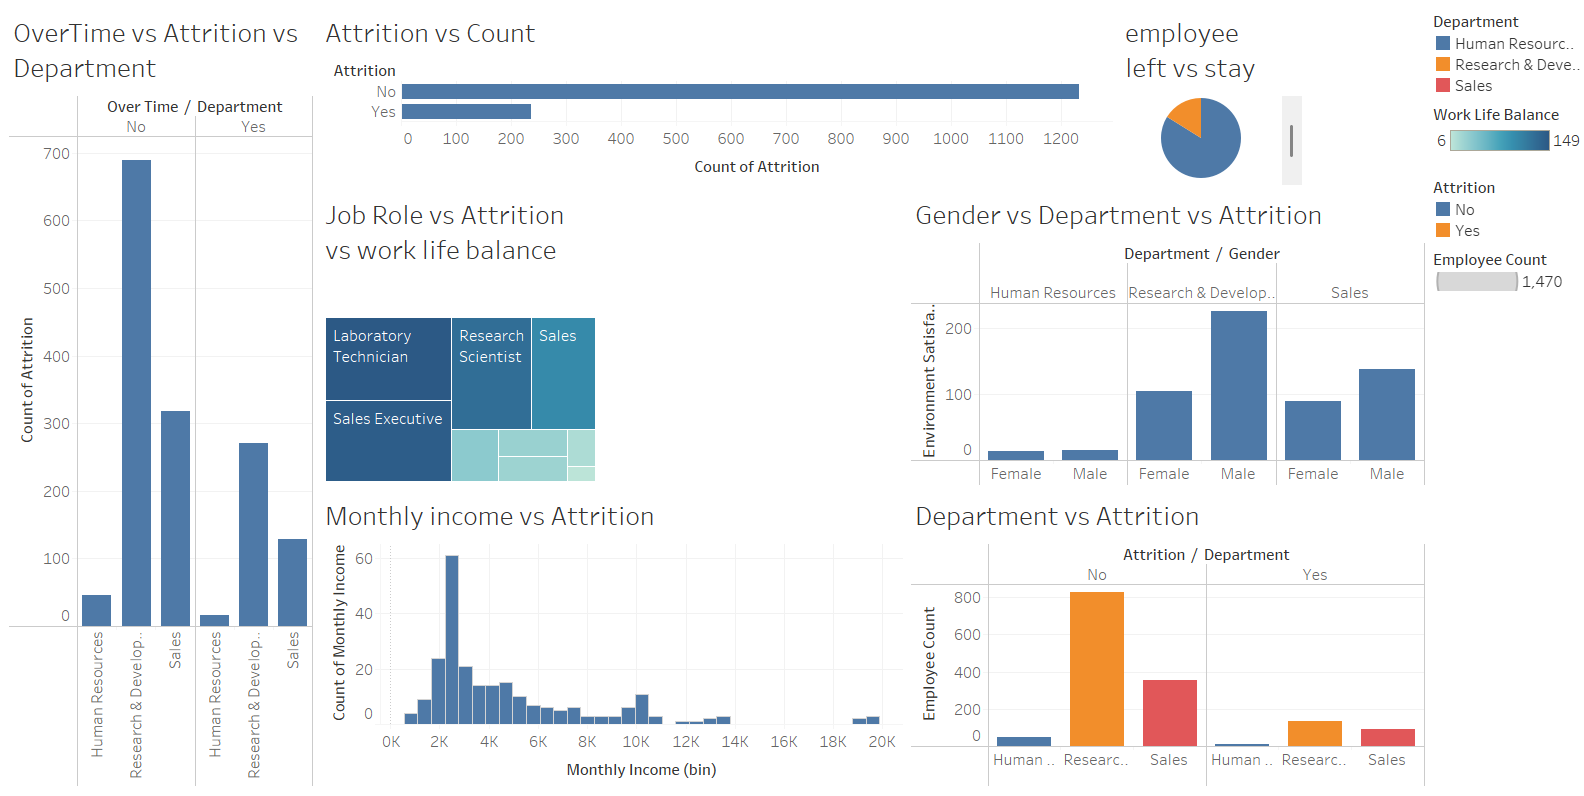

The dashboard page shown, as its layout file describes it:
{"tool":"tableau","page":{"name":"Dashboard 1","canvas":[1000,1000],"units":"permille","ordinal":0},"visuals":[{"type":"worksheet","title":"Sheet 5","mark":"Automatic","rows":["Attrition"],"cols":["OverTime","Department"],"box":[5,10,195,980]},{"type":"worksheet","title":"Sheet 1","mark":"Automatic","rows":["Attrition"],"cols":["Attrition"],"box":[200,10,500,227.6]},{"type":"worksheet","title":"Sheet 2","mark":"Pie","box":[700,10,195,227.6]},{"type":"legend","title":"Sheet 3","param":"[federated.0s0ip4q1ws8l401d2s1za0jbfz5q].[none:Department:nk]","box":[895,10,100,116.2]},{"type":"legend","title":"Sheet 6","param":"[federated.0s0ip4q1ws8l401d2s1za0jbfz5q].[sum:WorkLifeBalance:qk]","box":[895,126.2,100,91.2]},{"type":"legend","title":"Sheet 2","param":"[federated.0s0ip4q1ws8l401d2s1za0jbfz5q].[none:Attrition:nk]","box":[895,217.5,100,90]},{"type":"worksheet","title":"Sheet 6","mark":"Automatic","box":[200,237.6,368.8,376.2]},{"type":"worksheet","title":"Sheet 7","mark":"Automatic","rows":["EnvironmentSatisfaction"],"cols":["Department","Gender"],"box":[568.8,237.6,326.2,376.2]},{"type":"legend","title":"Sheet 2","param":"[federated.0s0ip4q1ws8l401d2s1za0jbfz5q].[sum:EmployeeCount:qk]","box":[895,307.5,100,63.8]},{"type":"worksheet","title":"Sheet 4","mark":"Automatic","rows":["MonthlyIncome"],"cols":["Monthly Income (bin)"],"box":[200,613.8,368.8,376.2]},{"type":"worksheet","title":"Sheet 3","mark":"Automatic","rows":["EmployeeCount"],"cols":["Attrition","Department"],"box":[568.8,613.8,326.2,376.2]}]}

Visuals, with their boxes on the dashboard's canvas, which has no fixed pixel size, in thousandths of its width and height (x1, y1, x2, y2). These are canvas units, not pixel positions in the 1584x796 screenshot, which may show the page scaled, cropped or inside an application window:
"Sheet 5" worksheet: (left=5, top=10, right=200, bottom=990)
"Sheet 1" worksheet: (left=200, top=10, right=700, bottom=238)
"Sheet 2" worksheet (Pie marks): (left=700, top=10, right=895, bottom=238)
"Sheet 3" legend: (left=895, top=10, right=995, bottom=126)
"Sheet 6" legend: (left=895, top=126, right=995, bottom=217)
"Sheet 2" legend: (left=895, top=218, right=995, bottom=308)
"Sheet 6" worksheet: (left=200, top=238, right=569, bottom=614)
"Sheet 7" worksheet: (left=569, top=238, right=895, bottom=614)
"Sheet 2" legend: (left=895, top=308, right=995, bottom=371)
"Sheet 4" worksheet: (left=200, top=614, right=569, bottom=990)
"Sheet 3" worksheet: (left=569, top=614, right=895, bottom=990)
